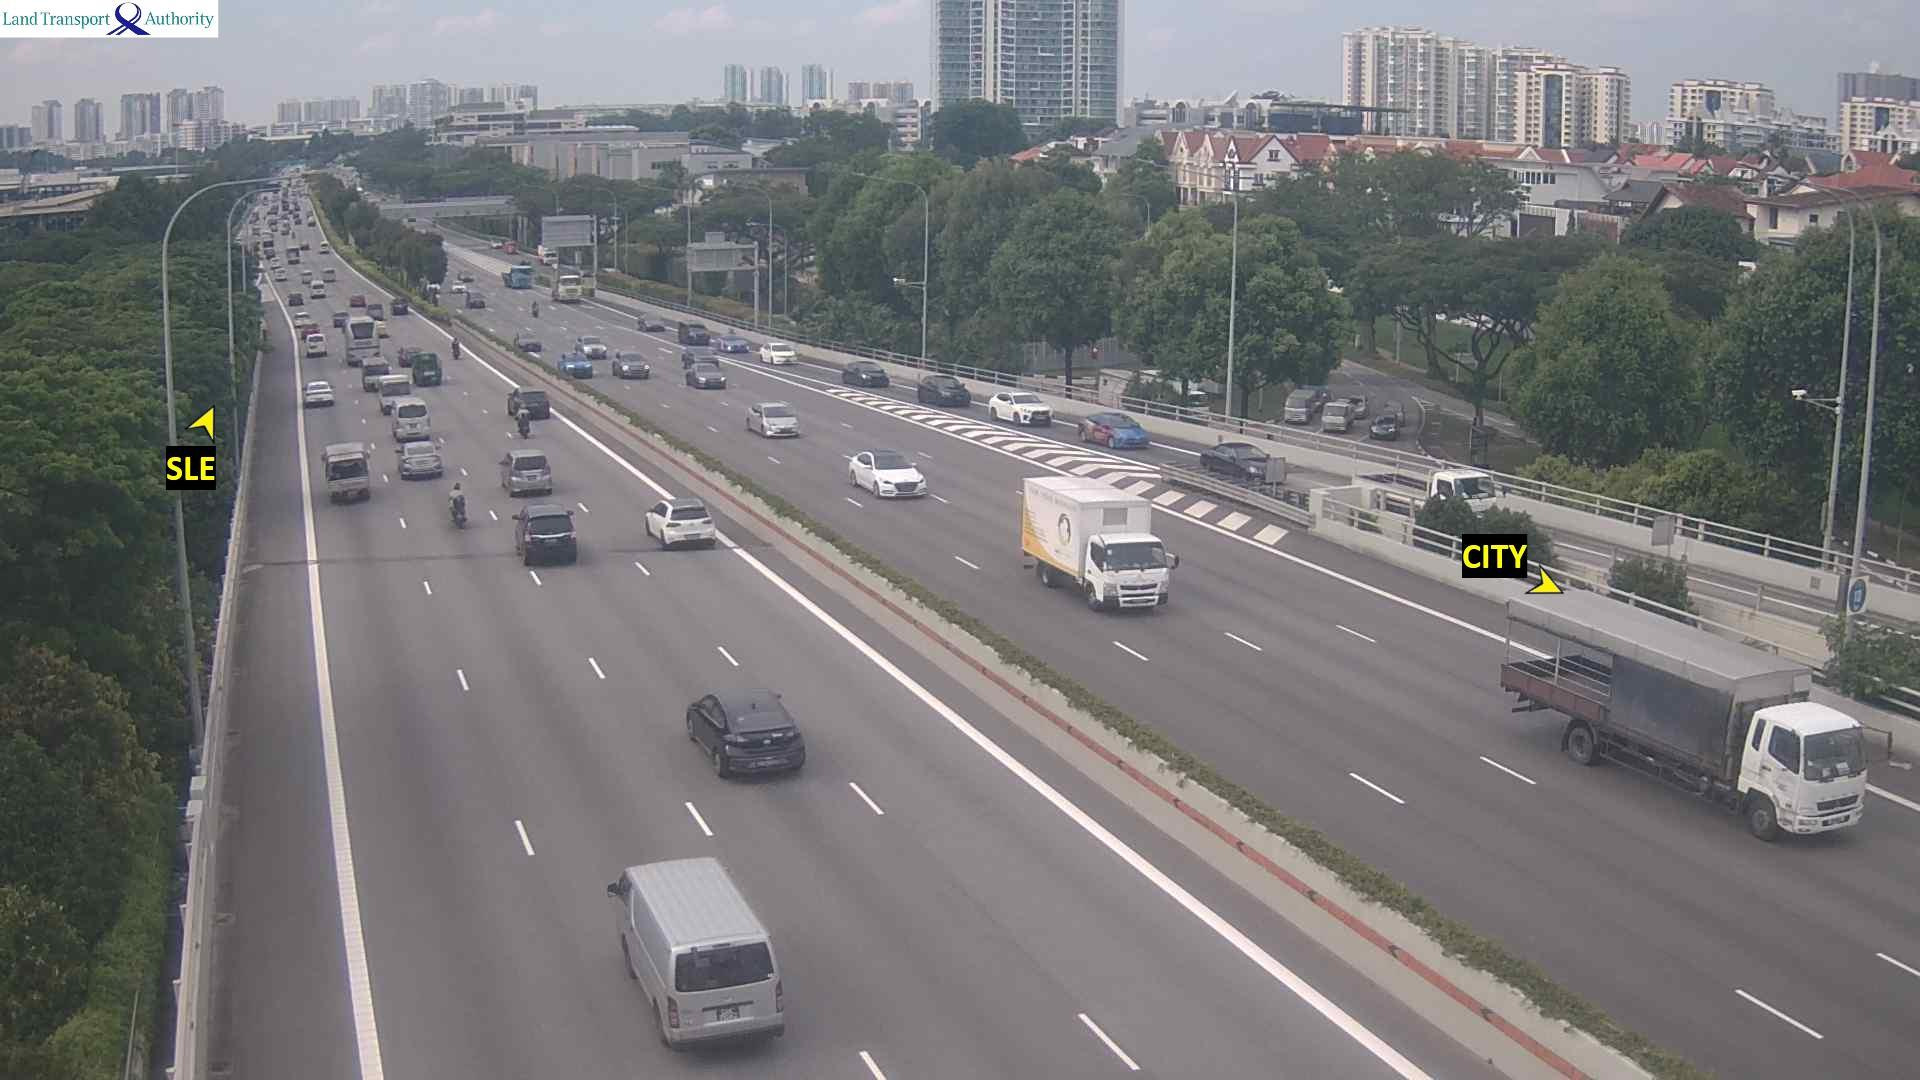incoming: (1743, 709, 1893, 837), (1091, 531, 1185, 616), (1436, 472, 1510, 523), (872, 456, 928, 499), (1105, 414, 1152, 449), (1236, 446, 1283, 481), (1012, 393, 1054, 427), (762, 404, 802, 437), (932, 377, 972, 406), (856, 361, 894, 388), (619, 354, 652, 378), (695, 365, 727, 388), (558, 274, 583, 303), (770, 343, 799, 365), (686, 320, 711, 345), (564, 354, 591, 377), (580, 337, 608, 359), (510, 265, 535, 289), (692, 347, 720, 367), (722, 335, 751, 353), (517, 332, 543, 352), (643, 313, 666, 331), (468, 291, 487, 309), (425, 278, 441, 292), (544, 250, 558, 266), (459, 269, 474, 282), (505, 242, 520, 255), (451, 281, 467, 293), (531, 300, 540, 318), (491, 239, 502, 248)
